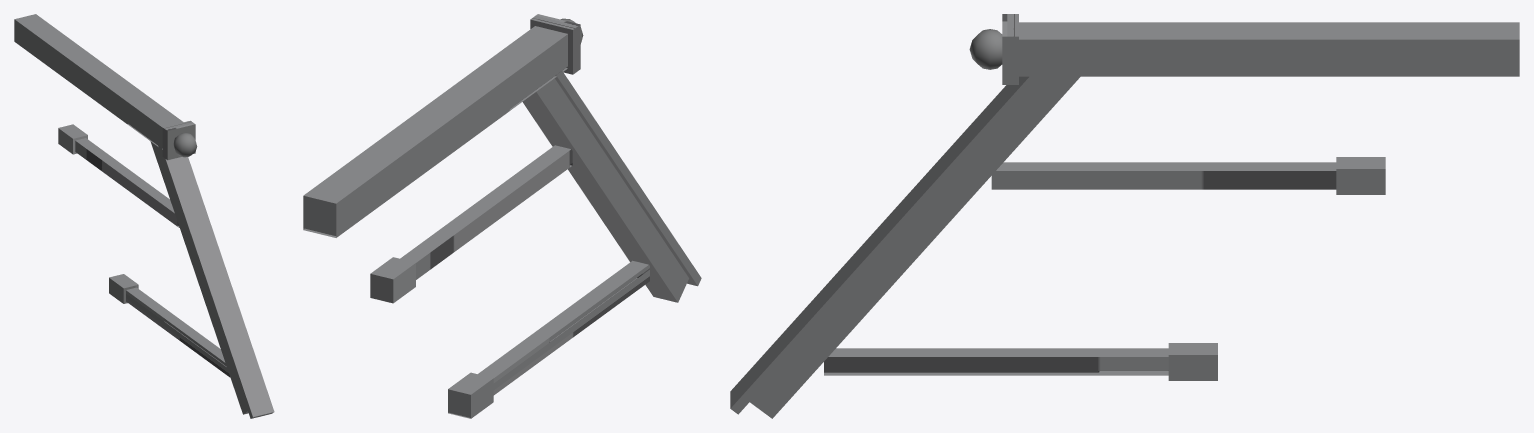
3 renders of one model, left to right at view 1: azimuth 30°, elevation 25°; view 2: azimuth 150°, elevation 25°; view 3: azimuth 270°, elevation 25°, orthographic. The views are drawn at different scales.
Bounding box in the file's own units: 0.13 × 1.04 × 1.92.
